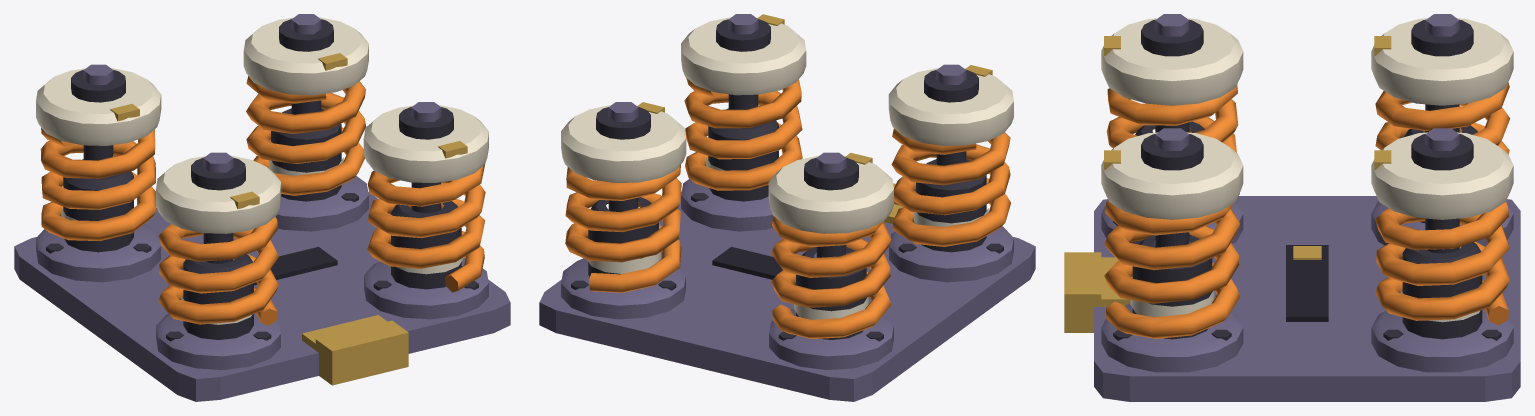
Rendered from vibration_dampers.glb.
The picture shows the model from 3 angles, left to right: view 1: azimuth 30°, elevation 25°; view 2: azimuth 150°, elevation 25°; view 3: azimuth 270°, elevation 25°; orthographic projection. The views are drawn at different scales.
Visible parts, largest first — view 1: dampers_PurpleGrey, dampers_Orange, dampers_Graphite, damper_top_2_CreamHull, damper_top_4_CreamHull, damper_top_3_CreamHull, damper_top_1_CreamHull, dampers_Gold, damper_top_3_Graphite, damper_top_2_Graphite, damper_top_1_Graphite, damper_top_4_Graphite (+6 smaller); view 2: dampers_PurpleGrey, dampers_Orange, dampers_Graphite, damper_top_2_CreamHull, damper_top_1_CreamHull, damper_top_3_CreamHull, damper_top_4_CreamHull, dampers_CreamHull, damper_top_1_Graphite, damper_top_3_Graphite, damper_top_2_Graphite, damper_top_4_Graphite (+5 smaller); view 3: dampers_PurpleGrey, dampers_Orange, damper_top_4_CreamHull, damper_top_3_CreamHull, damper_top_1_CreamHull, damper_top_2_CreamHull, dampers_Graphite, dampers_Gold, dampers_DecalDark, damper_top_4_Graphite, damper_top_1_Graphite, damper_top_2_Graphite (+6 smaller).
Part boxes in pixels (x1=…): dampers_PurpleGrey: x1=14, y1=176, x2=510, y2=401; dampers_Orange: x1=40, y1=76, x2=485, y2=325; dampers_Graphite: x1=46, y1=108, x2=478, y2=341; damper_top_2_CreamHull: x1=156, y1=156, x2=281, y2=233; damper_top_4_CreamHull: x1=243, y1=17, x2=368, y2=95; damper_top_3_CreamHull: x1=36, y1=68, x2=161, y2=145; damper_top_1_CreamHull: x1=363, y1=105, x2=488, y2=182; dampers_Gold: x1=302, y1=315, x2=408, y2=385; damper_top_3_Graphite: x1=71, y1=69, x2=125, y2=160; damper_top_2_Graphite: x1=191, y1=157, x2=245, y2=263; damper_top_1_Graphite: x1=399, y1=106, x2=453, y2=213; damper_top_4_Graphite: x1=279, y1=19, x2=333, y2=114; dampers_PurpleGrey: x1=539, y1=179, x2=1035, y2=401; dampers_Orange: x1=565, y1=77, x2=1010, y2=338; dampers_Graphite: x1=571, y1=108, x2=1003, y2=341; damper_top_2_CreamHull: x1=888, y1=68, x2=1013, y2=145; damper_top_1_CreamHull: x1=681, y1=17, x2=806, y2=95; damper_top_3_CreamHull: x1=768, y1=156, x2=893, y2=233; damper_top_4_CreamHull: x1=561, y1=105, x2=686, y2=182; dampers_CreamHull: x1=587, y1=157, x2=988, y2=319; damper_top_1_Graphite: x1=716, y1=19, x2=770, y2=109; damper_top_3_Graphite: x1=804, y1=157, x2=858, y2=257; damper_top_2_Graphite: x1=924, y1=69, x2=978, y2=165; damper_top_4_Graphite: x1=596, y1=106, x2=650, y2=211; dampers_PurpleGrey: x1=1094, y1=196, x2=1520, y2=401; dampers_Orange: x1=1104, y1=82, x2=1510, y2=338; damper_top_4_CreamHull: x1=1371, y1=132, x2=1513, y2=219; damper_top_3_CreamHull: x1=1371, y1=18, x2=1513, y2=105; damper_top_1_CreamHull: x1=1101, y1=132, x2=1243, y2=219; damper_top_2_CreamHull: x1=1101, y1=18, x2=1243, y2=105; dampers_Graphite: x1=1113, y1=121, x2=1501, y2=340; dampers_Gold: x1=1064, y1=246, x2=1321, y2=332; dampers_DecalDark: x1=1286, y1=245, x2=1328, y2=321; damper_top_4_Graphite: x1=1411, y1=134, x2=1473, y2=253; damper_top_1_Graphite: x1=1141, y1=134, x2=1203, y2=247; damper_top_2_Graphite: x1=1141, y1=19, x2=1203, y2=132.
Bounding box in the file's own units: 0.3 × 0.182 × 0.321.
